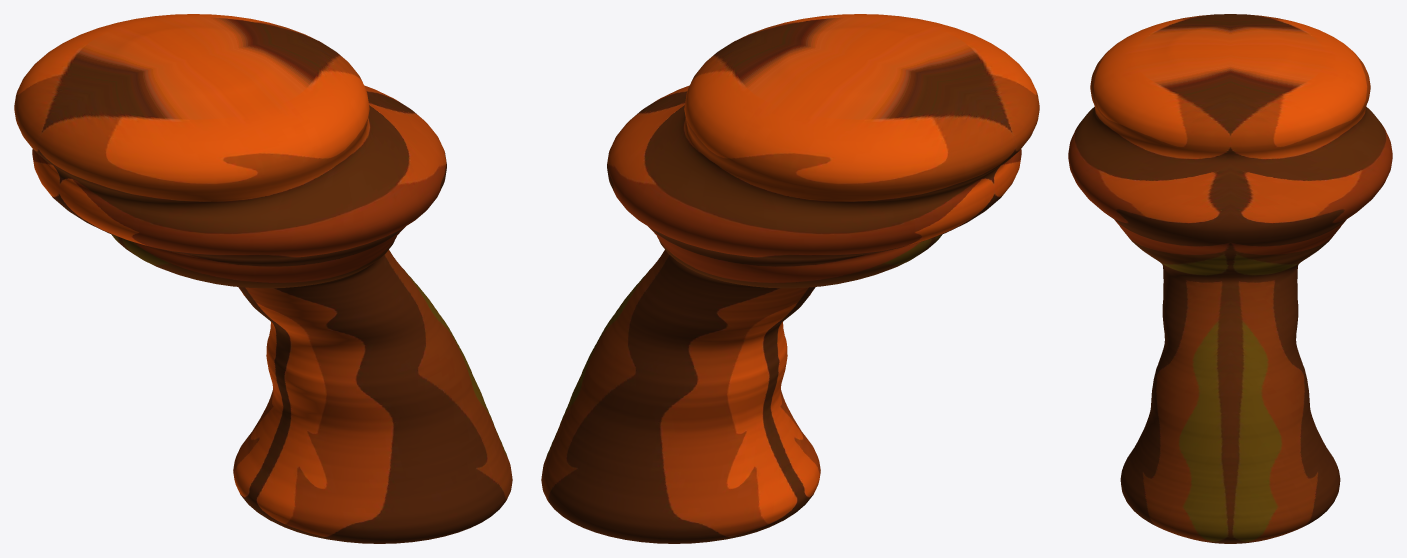
Rendered from orange_mushroom.glb.
The picture shows the model from 3 angles, left to right: view 1: azimuth 30°, elevation 25°; view 2: azimuth 150°, elevation 25°; view 3: azimuth 270°, elevation 25°; orthographic projection. The views are drawn at different scales.
Parts seen in each view (by area): view 1: orange_mushroom; view 2: orange_mushroom; view 3: orange_mushroom.
Boxes of the visible parts, x1,y1,x2,y2 form: orange_mushroom: (14,14,512,543); orange_mushroom: (541,14,1039,543); orange_mushroom: (1068,14,1392,543).
Size of the model in its own units: 0.998 by 1.05 by 0.7799.
1 material, 1 textured.
